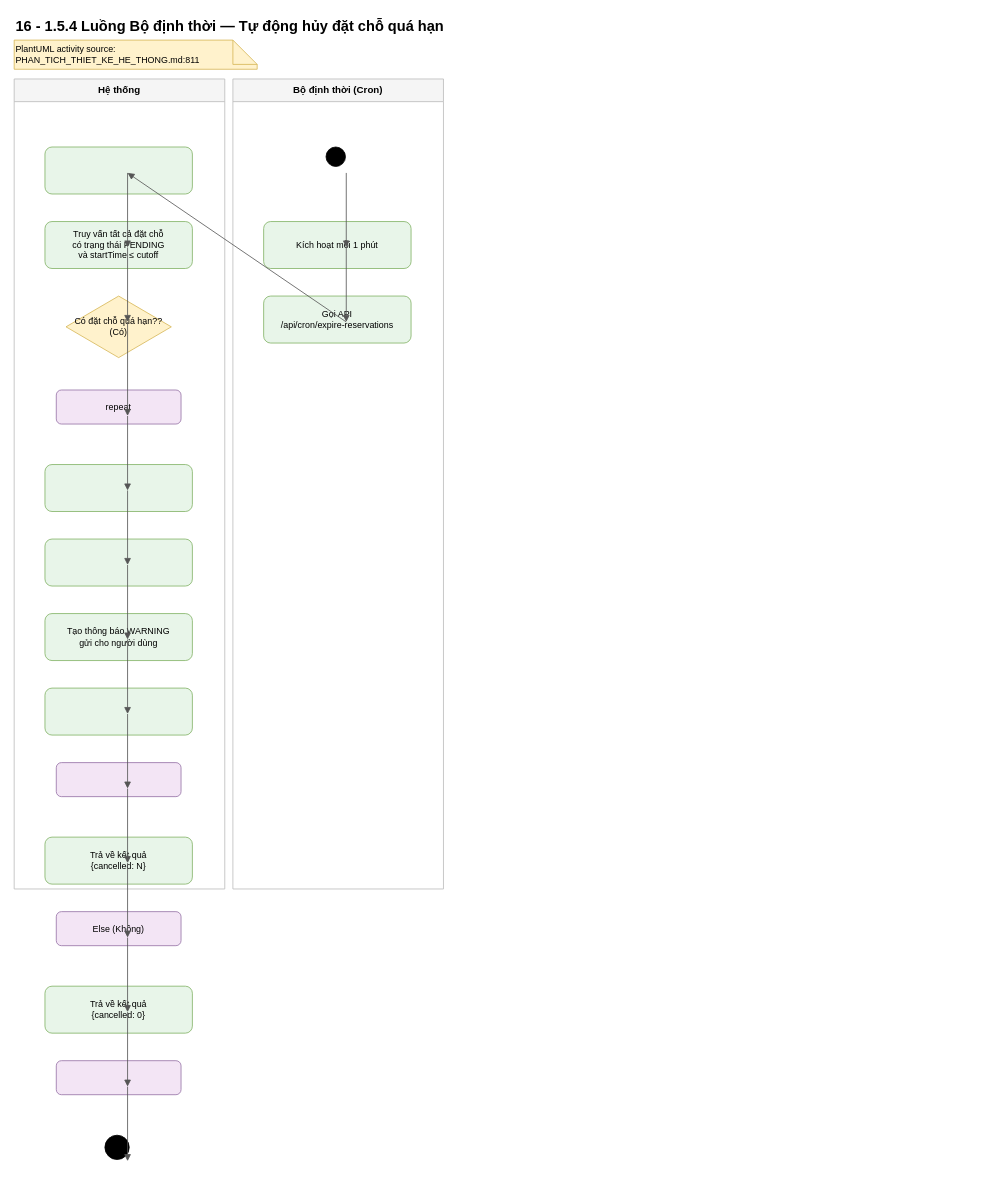
Image size: 1000x1182. Some labels were removed from this diagram. Each missing label, with the centre of its shape:
Bắt đầu giao dịch (transaction): (x=118, y=488)
Cập nhật đặt chỗ → CANCELLED: (x=118, y=562)
endif: (x=118, y=1077)
Kết thúc giao dịch (commit): (x=118, y=711)
repeat while (Còn đặt chỗ chưa xử lý?) is (Có): (x=118, y=779)
Tính thời điểm cắt (cutoff = hiện tại - 15 phút): (x=118, y=170)
